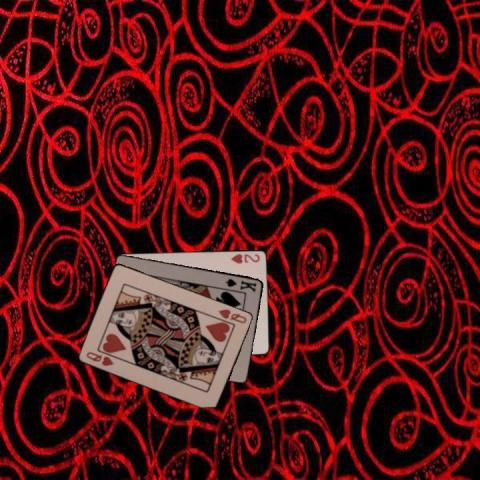2h: (228, 251, 261, 264)
Ks: (223, 275, 258, 294)
Qh: (215, 306, 248, 325), (84, 349, 116, 367)
